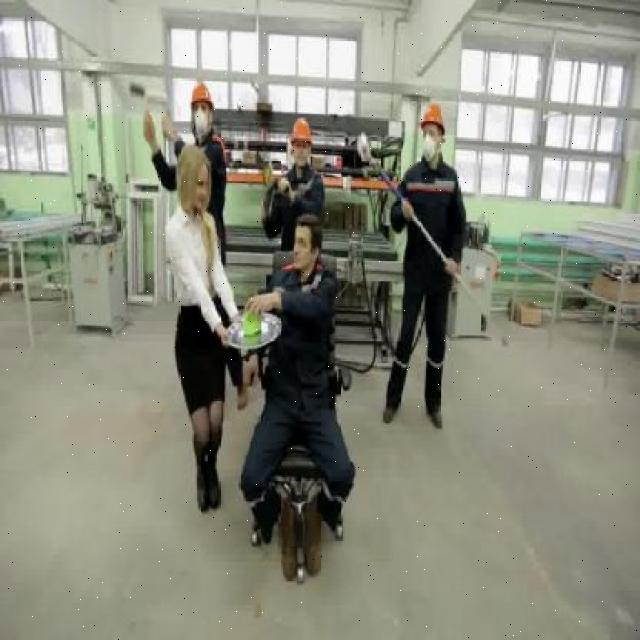Person: (235, 224, 358, 617), (395, 98, 468, 436)
